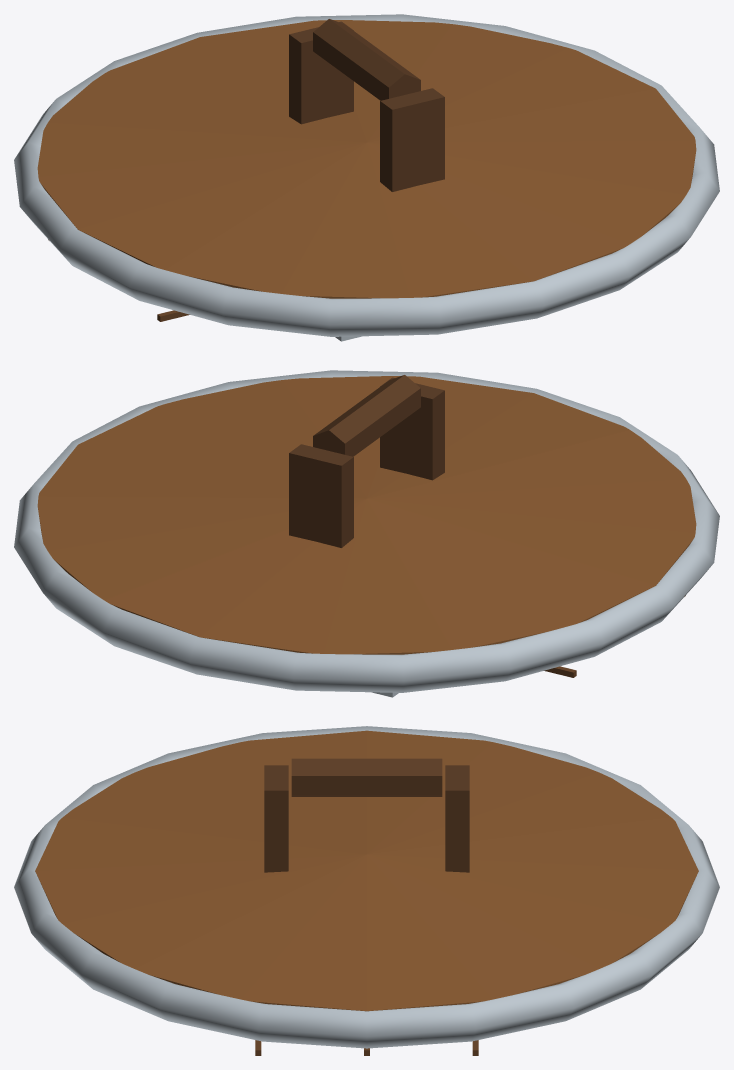
Rendered from Weapon_Shield_Steel.fbx.
3 views of the same model, one above another, from view 1: azimuth 30°, elevation 25°; view 2: azimuth 150°, elevation 25°; view 3: azimuth 270°, elevation 25° (orthographic).
Parts seen in each view (by area): view 1: Weapon_Shield_Steel; view 2: Weapon_Shield_Steel; view 3: Weapon_Shield_Steel.
Part boxes in pixels (box(x1,y1,x2,y2)): Weapon_Shield_Steel: box(14, 14, 719, 341); Weapon_Shield_Steel: box(14, 370, 719, 697); Weapon_Shield_Steel: box(14, 726, 719, 1055).
Size of the model in its own units: 23.4 by 7.63 by 23.4.
